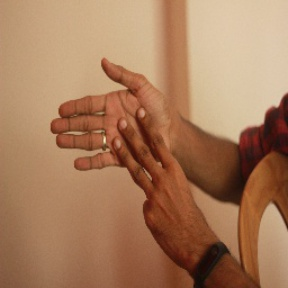M: (45, 52, 188, 202)
